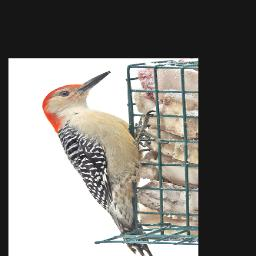Woodpecker: (42, 68, 157, 256)
